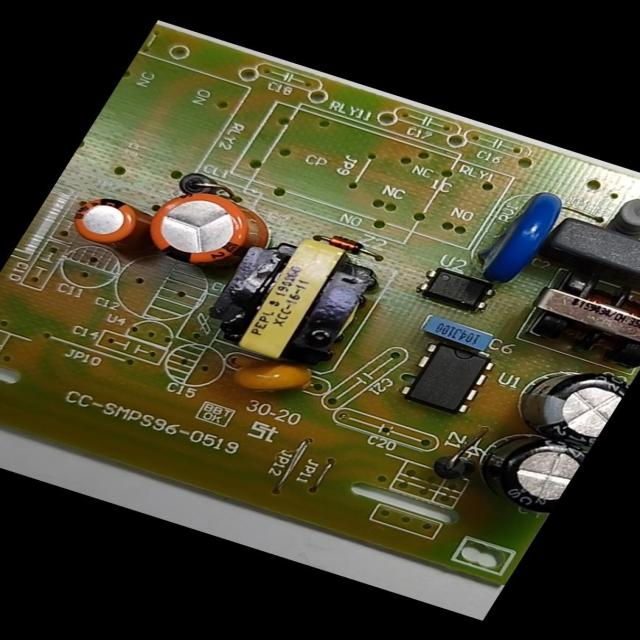Cap1: (123, 176, 289, 289)
Cap2: (54, 186, 157, 255)
Cap3: (488, 349, 632, 452)
Cap4: (436, 412, 592, 526)
MOSFET: (370, 325, 512, 431)
Mov: (455, 176, 585, 303)
Resistor: (580, 174, 639, 250)
Transformer: (182, 209, 420, 393), (495, 251, 639, 386)
